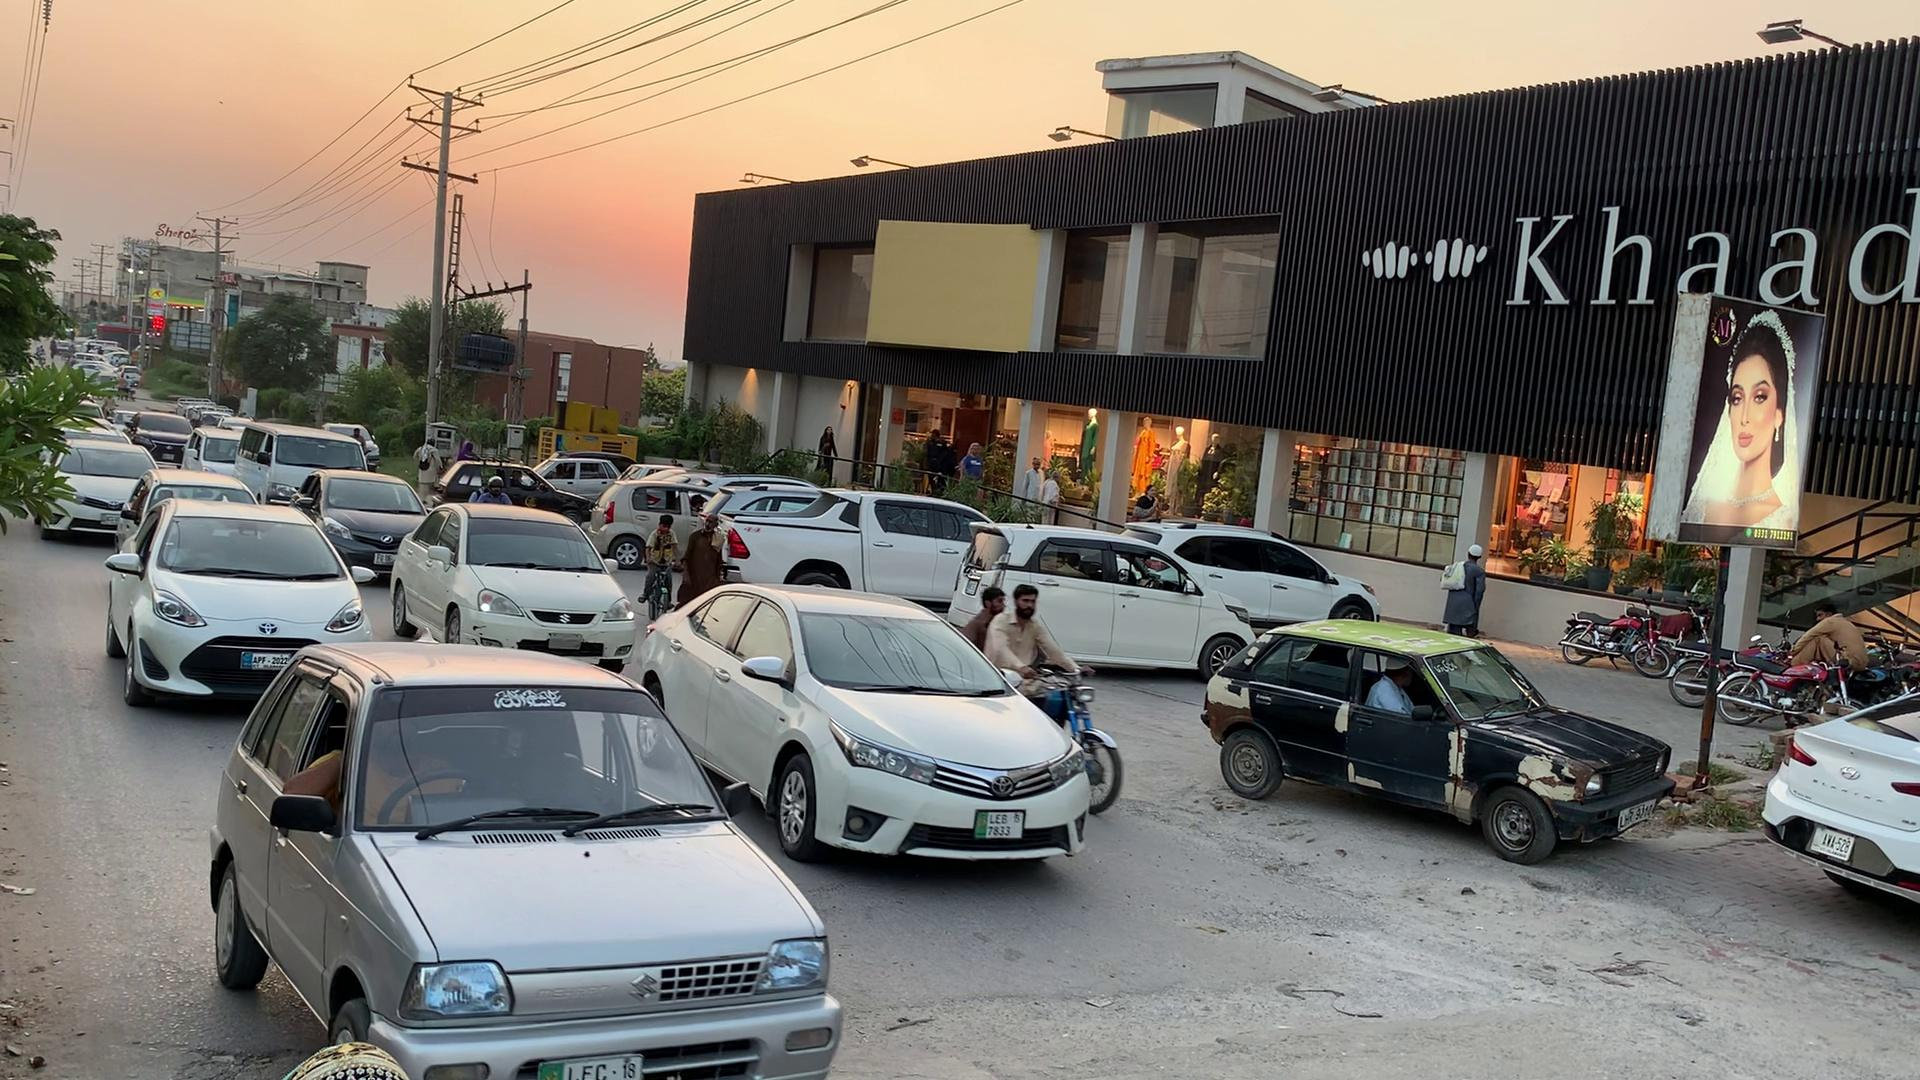windshield: (348, 670, 750, 853), (795, 604, 1018, 695), (153, 502, 356, 585), (463, 514, 612, 578)
